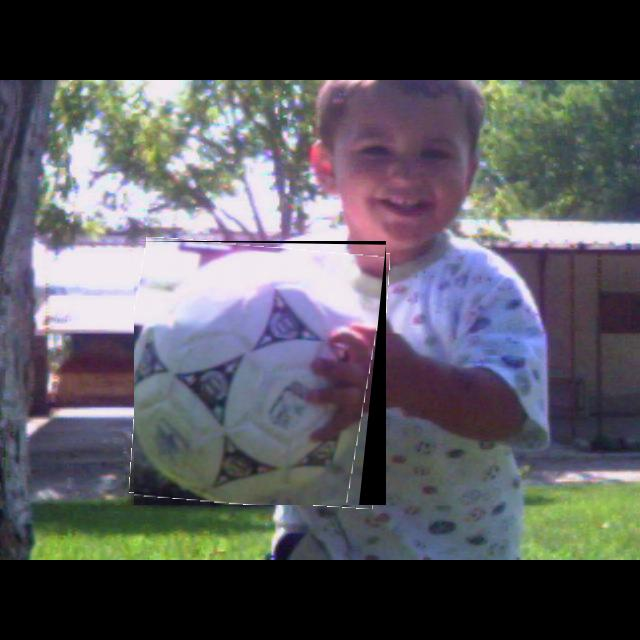Football: (134, 241, 386, 505)
